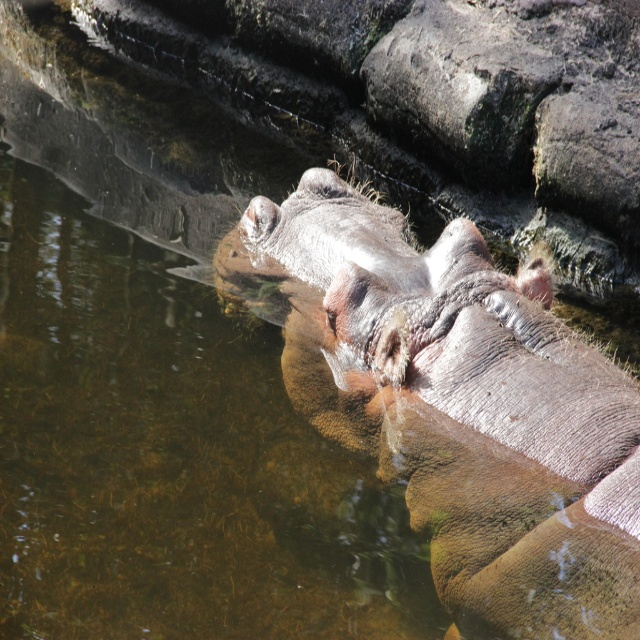Hippopotamus: (213, 166, 640, 639)
